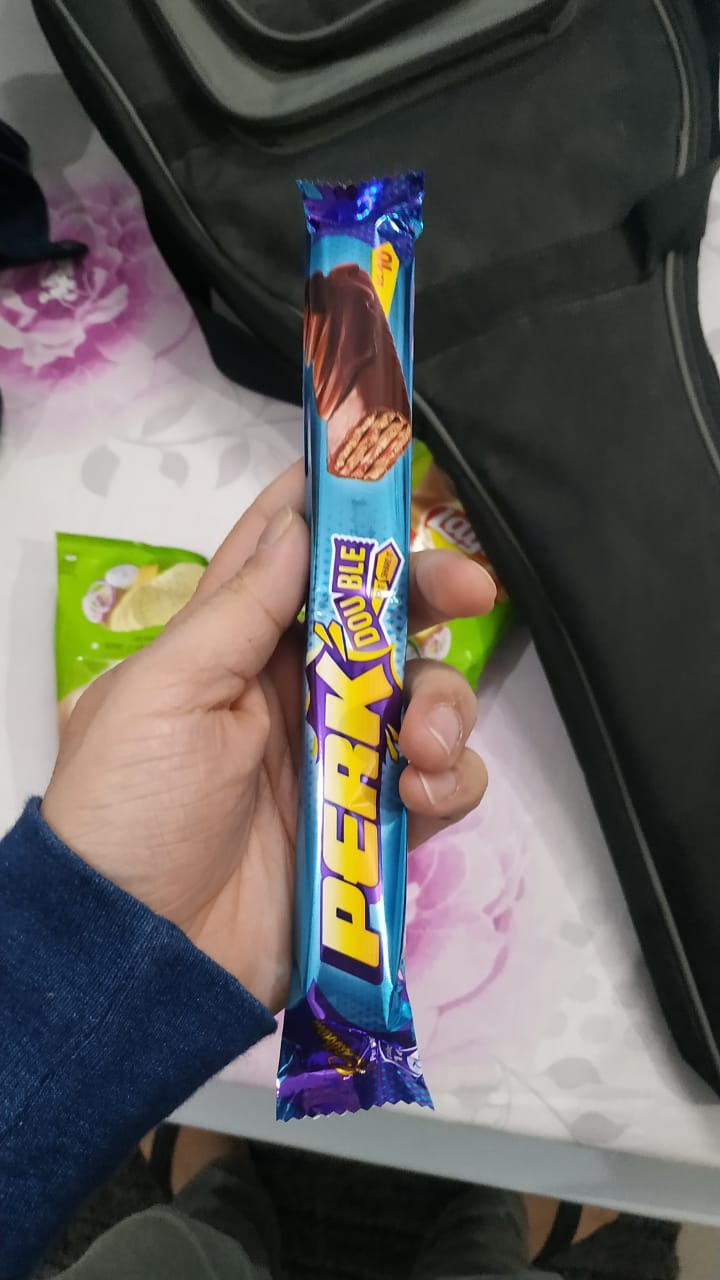perk: (280, 159, 427, 1145)
